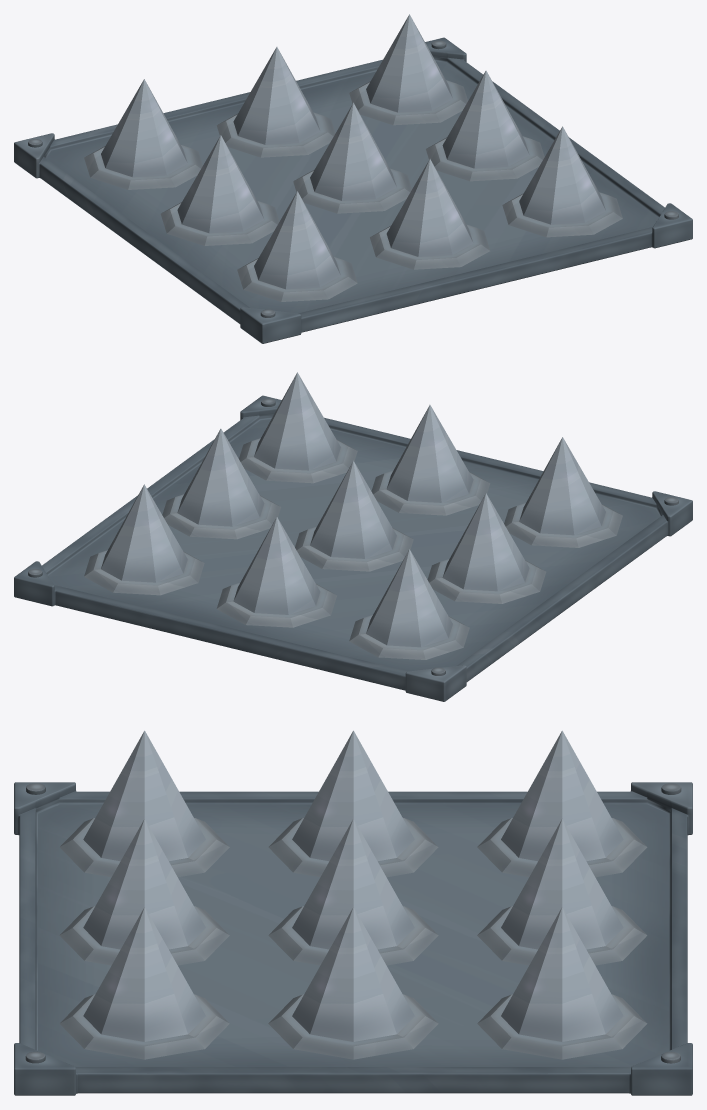
The model's file is SpikeTrapShort.fbx.
The picture shows the model from 3 angles, top to bottom: view 1: azimuth 30°, elevation 25°; view 2: azimuth 150°, elevation 25°; view 3: azimuth 270°, elevation 25°; orthographic projection. The views are drawn at different scales.
Visible parts, largest first — view 1: Platform, Spike2, Spike3, Spike4, Spike7, Spike8, Spike1, Spike5, Spike6, Spike0, Spikepad.002, Spikepad2.002 (+7 smaller); view 2: Platform, Spike3, Spike1, Spike2, Spike7, Spike8, Spike4, Spike0, Spike6, Spike5, Spikepad, Spikepad2 (+7 smaller); view 3: Platform, Spike2, Spike3, Spike7, Spike8, Spike6, Spike1, Spike4, Spike0, Spike5, Spikepad1.001, Spikepad1.002 (+7 smaller).
Boxes of the visible parts, bbox=[...] form: Platform: bbox=[14, 37, 692, 343]; Spike2: bbox=[366, 14, 452, 112]; Spike3: bbox=[519, 126, 605, 224]; Spike4: bbox=[386, 159, 473, 256]; Spike7: bbox=[442, 70, 529, 168]; Spike8: bbox=[310, 102, 396, 200]; Spike1: bbox=[233, 47, 320, 144]; Spike5: bbox=[254, 191, 340, 289]; Spike6: bbox=[177, 135, 264, 233]; Spike0: bbox=[101, 79, 187, 177]; Spikepad.002: bbox=[370, 225, 490, 269]; Spikepad2.002: bbox=[237, 257, 357, 301]; Platform: bbox=[14, 395, 692, 701]; Spike3: bbox=[254, 372, 340, 470]; Spike1: bbox=[233, 517, 320, 614]; Spike2: bbox=[101, 484, 187, 582]; Spike7: bbox=[177, 428, 264, 526]; Spike8: bbox=[310, 460, 396, 558]; Spike4: bbox=[386, 405, 473, 502]; Spike0: bbox=[366, 549, 452, 647]; Spike6: bbox=[442, 493, 529, 591]; Spike5: bbox=[519, 437, 605, 535]; Spikepad: bbox=[216, 583, 336, 627]; Spikepad2: bbox=[349, 615, 469, 659]; Platform: bbox=[14, 782, 692, 1095]; Spike2: bbox=[501, 907, 623, 1041]; Spike3: bbox=[83, 907, 205, 1041]; Spike7: bbox=[292, 907, 414, 1041]; Spike8: bbox=[292, 819, 414, 949]; Spike6: bbox=[292, 730, 414, 861]; Spike1: bbox=[501, 819, 623, 949]; Spike4: bbox=[83, 819, 205, 949]; Spike0: bbox=[501, 730, 623, 861]; Spike5: bbox=[83, 730, 205, 861]; Spikepad1.001: bbox=[268, 994, 438, 1059]; Spikepad1.002: bbox=[59, 994, 229, 1059].
Bounding box in the file's own units: 406 × 88.83 × 406.
